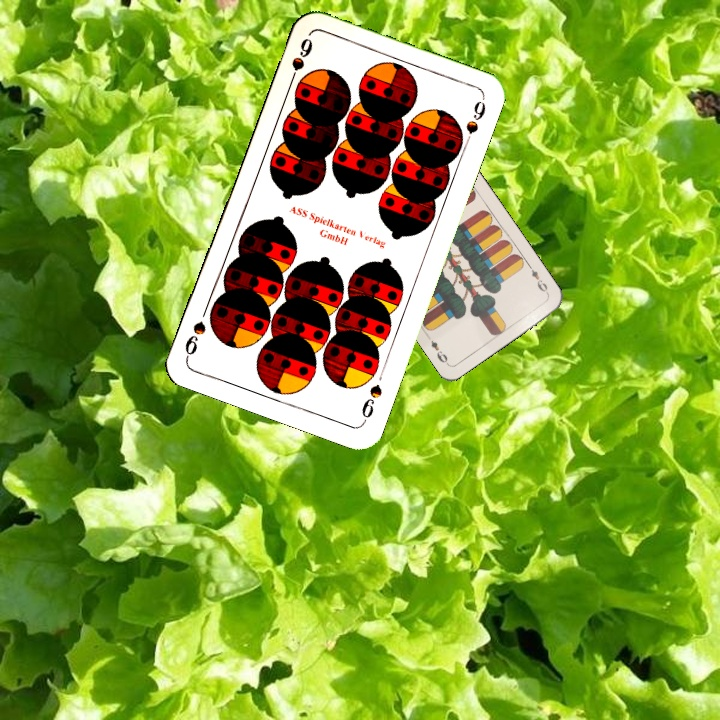E9: (524, 261, 551, 297)
S9: (284, 33, 316, 90), (357, 380, 385, 426)
